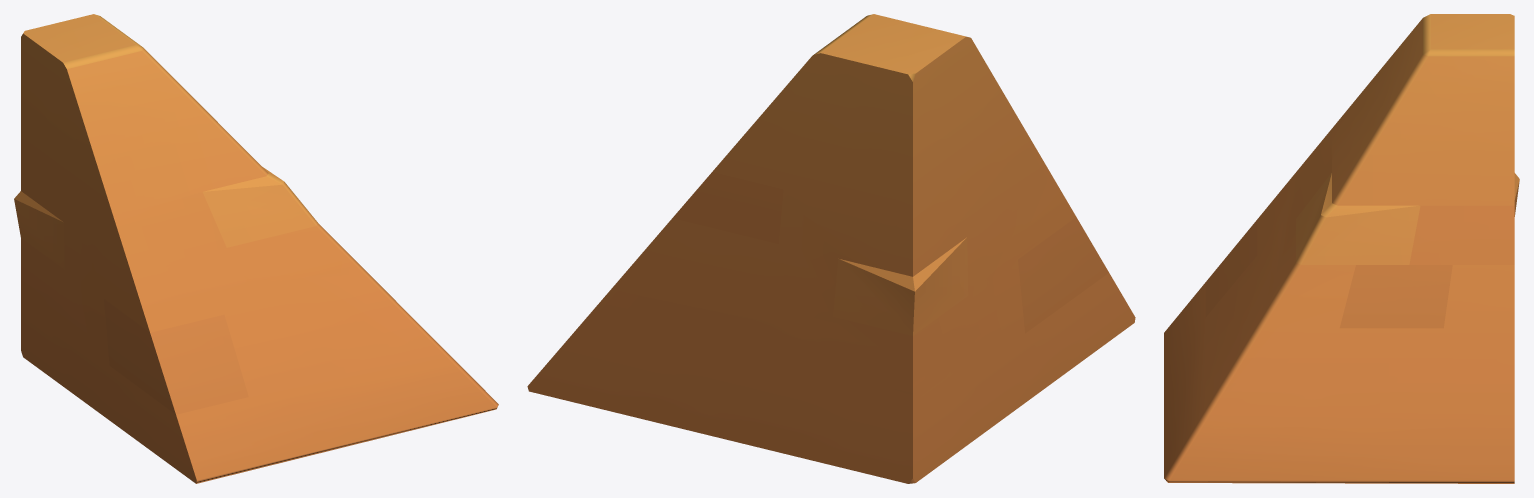
Rendered from pyramid_wall_corner_conv.fbx.
The picture shows the model from 3 angles, left to right: view 1: azimuth 30°, elevation 25°; view 2: azimuth 150°, elevation 25°; view 3: azimuth 270°, elevation 25°; orthographic projection. The views are drawn at different scales.
Visible parts, largest first — view 1: pyramid_wall_corner_conv; view 2: pyramid_wall_corner_conv; view 3: pyramid_wall_corner_conv.
Boxes of the visible parts, bbox=[...] form: pyramid_wall_corner_conv: bbox=[14, 14, 498, 483]; pyramid_wall_corner_conv: bbox=[527, 14, 1135, 483]; pyramid_wall_corner_conv: bbox=[1164, 14, 1519, 483].
Size of the model in its own units: 402 by 402 by 402.
